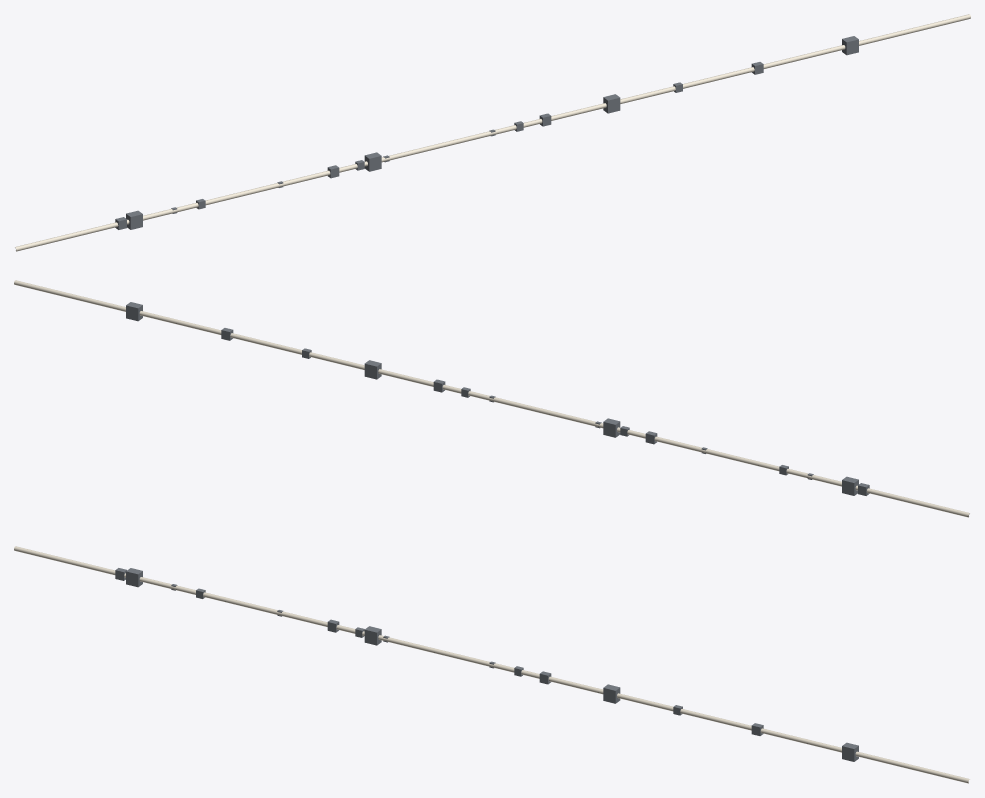
File: area-a-piping.glb
3 renders of one model, top to bottom at view 1: azimuth 30°, elevation 25°; view 2: azimuth 150°, elevation 25°; view 3: azimuth 330°, elevation 25°, orthographic.
Size of the model in its own units: 36 by 0.468 by 0.312.
